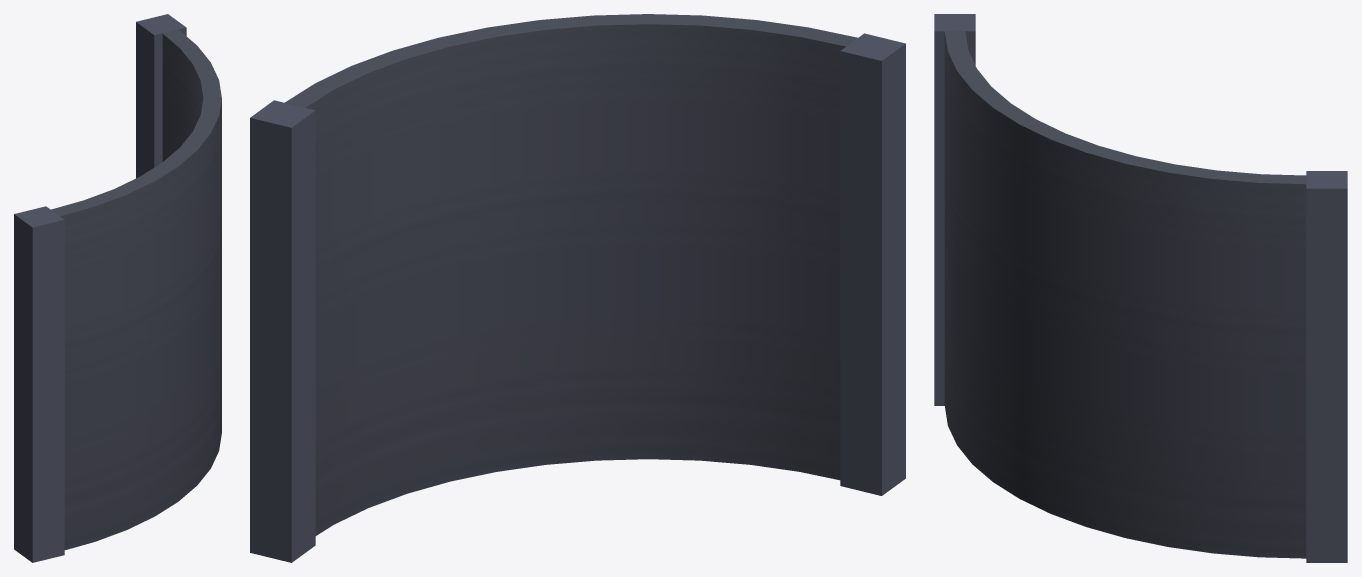
File: wall-curved.glb
The picture shows the model from 3 angles, left to right: view 1: azimuth 30°, elevation 25°; view 2: azimuth 150°, elevation 25°; view 3: azimuth 270°, elevation 25°; orthographic projection. The views are drawn at different scales.
Visible parts, largest first — view 1: wall-curved; view 2: wall-curved; view 3: wall-curved.
Part boxes in pixels (<box>): wall-curved: <box>14,14,221,562</box>; wall-curved: <box>250,14,905,562</box>; wall-curved: <box>934,14,1347,562</box>.
Size of the model in its own units: 1 by 1 by 1.
1 material, 1 textured.
